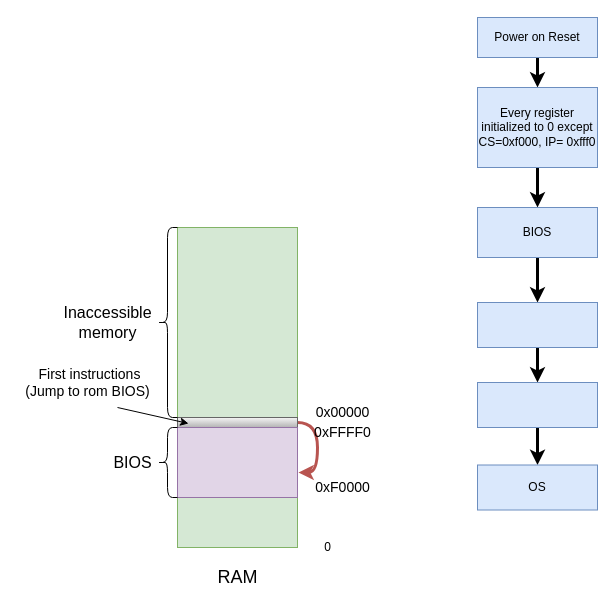
Some shapes in this 615 by 606 pixel diagram are drawn without their labels. The centre of each missing label's shape, as x and y in pixels:
"Bootloader" belongs at point (537, 405).
"MBR Execution" belongs at point (537, 325).
